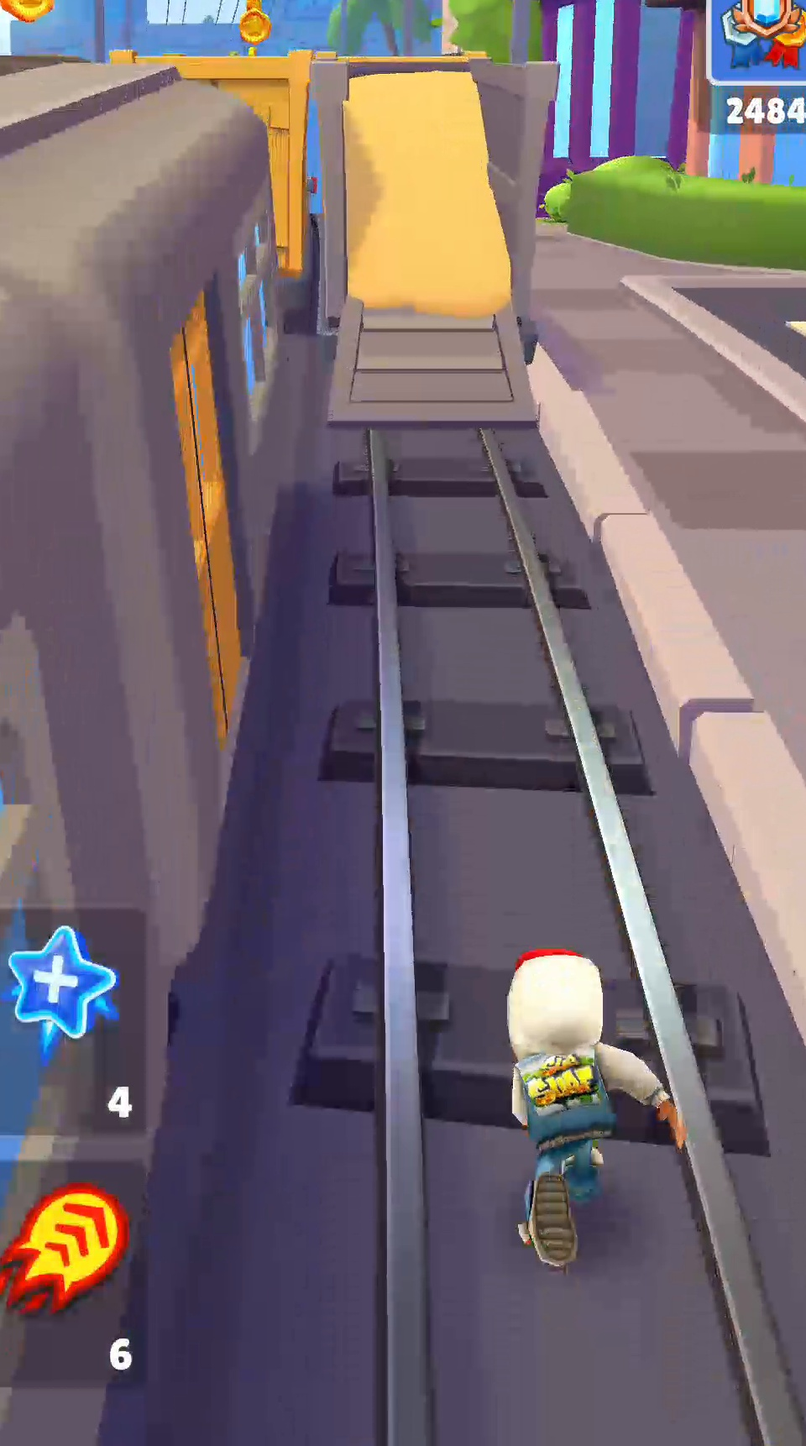climber: (329, 72, 534, 427)
train: (0, 62, 280, 1445), (113, 50, 312, 278)
